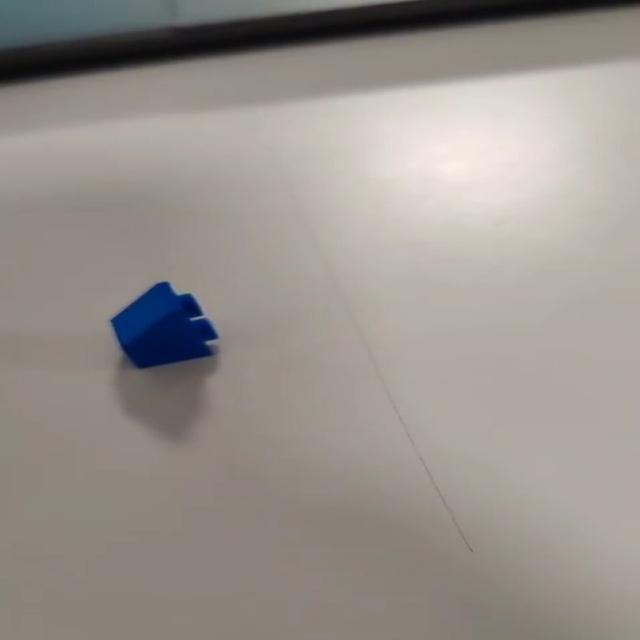X1x2x1: (102, 278, 228, 378)
